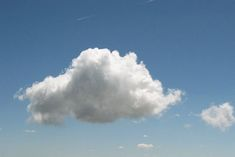Cumulus: (13, 34, 192, 135), (195, 96, 235, 134)
